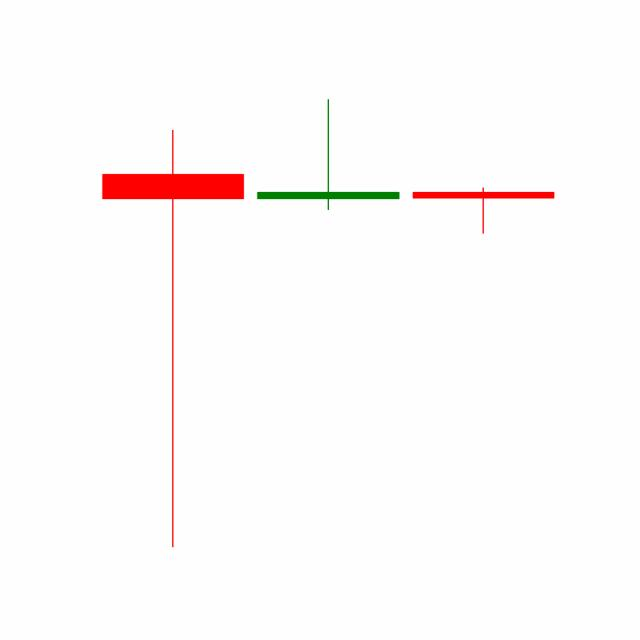Gravestone Doji: (249, 97, 406, 211)
